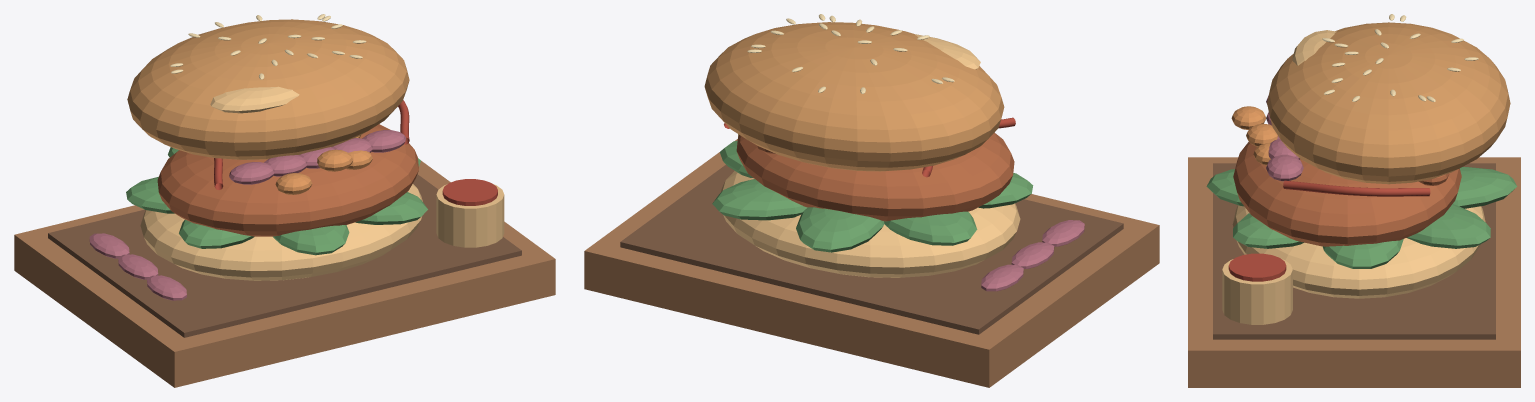
The model's file is macao_spice_bun.glb.
3 renders of one model, left to right at view 1: azimuth 30°, elevation 25°; view 2: azimuth 150°, elevation 25°; view 3: azimuth 270°, elevation 25°, orthographic. The views are drawn at different scales.
Visible parts, largest first — view 1: spice_bun_board_body, toasted_bun_top, spice_bun_board_inset, chicken_fillet_main, toasted_bun_bottom, spice_oil_cup, bun_crown_highlight, ruffled_romaine_5, ruffled_romaine_4, spice_oil_surface, ruffled_romaine_6, ruffled_romaine_3 (+8 smaller); view 2: spice_bun_board_body, toasted_bun_top, spice_bun_board_inset, chicken_fillet_main, toasted_bun_bottom, ruffled_romaine_2, ruffled_romaine_1, ruffled_romaine_3, board_cabbage_garnish_2, ruffled_romaine_4, board_cabbage_garnish_0, board_cabbage_garnish_1 (+2 smaller); view 3: toasted_bun_top, spice_bun_board_body, spice_bun_board_inset, chicken_fillet_main, toasted_bun_bottom, spice_oil_cup, ruffled_romaine_1, ruffled_romaine_2, ruffled_romaine_0, spice_oil_surface, spice_sauce_drizzle_3, ruffled_romaine_6 (+7 smaller).
Boxes of the visible parts, box(x1,y1,x2,y2) form: spice_bun_board_body: box(14, 160, 555, 387); toasted_bun_top: box(127, 19, 409, 159); spice_bun_board_inset: box(48, 174, 521, 337); chicken_fillet_main: box(157, 124, 418, 236); toasted_bun_bottom: box(140, 184, 422, 280); spice_oil_cup: box(436, 184, 504, 247); bun_crown_highlight: box(210, 86, 299, 113); ruffled_romaine_5: box(273, 225, 349, 255); ruffled_romaine_4: box(179, 219, 254, 248); spice_oil_surface: box(442, 179, 497, 205); ruffled_romaine_6: box(355, 192, 427, 224); ruffled_romaine_3: box(126, 177, 174, 213); spice_bun_board_body: box(584, 139, 1159, 387); toasted_bun_top: box(704, 22, 1004, 171); spice_bun_board_inset: box(620, 165, 1123, 334); chicken_fillet_main: box(736, 132, 1014, 221); toasted_bun_bottom: box(720, 171, 1020, 277); ruffled_romaine_2: box(796, 207, 884, 252); ruffled_romaine_1: box(712, 179, 807, 220); ruffled_romaine_3: box(884, 211, 977, 245); board_cabbage_garnish_2: box(981, 264, 1023, 291); ruffled_romaine_4: box(978, 173, 1033, 208); board_cabbage_garnish_0: box(1042, 220, 1084, 246); board_cabbage_garnish_1: box(1011, 242, 1054, 268); toasted_bun_top: box(1267, 22, 1510, 184); spice_bun_board_body: box(1188, 157, 1520, 387); spice_bun_board_inset: box(1213, 163, 1495, 339); chicken_fillet_main: box(1233, 142, 1461, 246); toasted_bun_bottom: box(1232, 205, 1485, 298); spice_oil_cup: box(1222, 259, 1292, 324); ruffled_romaine_1: box(1406, 204, 1490, 248); ruffled_romaine_2: box(1453, 167, 1517, 208); ruffled_romaine_0: box(1322, 239, 1403, 268); spice_oil_surface: box(1228, 253, 1286, 281); spice_sauce_drizzle_3: box(1283, 180, 1430, 196); ruffled_romaine_6: box(1233, 213, 1303, 248).
Size of the model in its own units: 0.92 by 0.5402 by 0.67.
